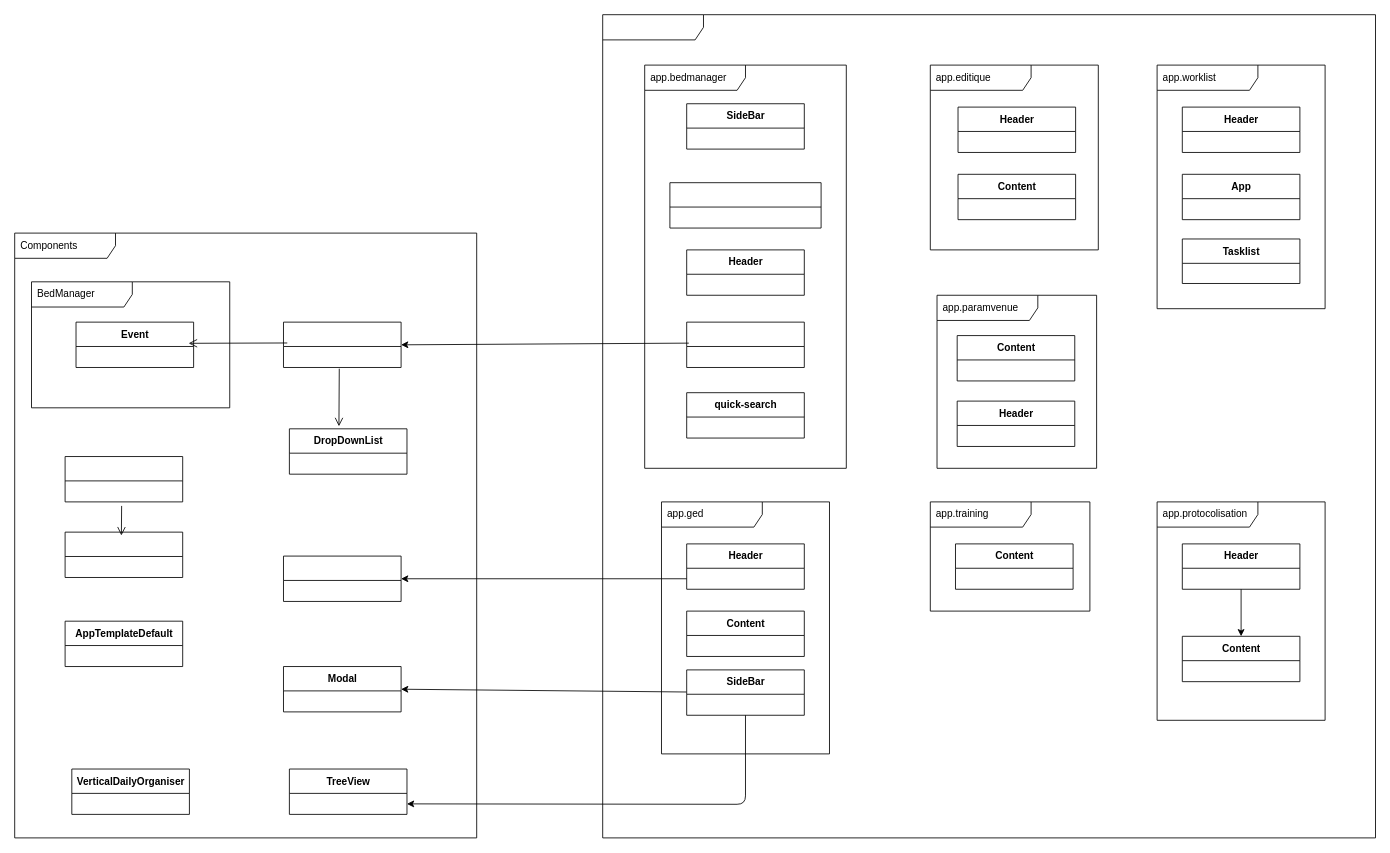
The diagram is 1390 pixels wide and 853 high, and some of its shapes have lost their labels. The shapes that lost their labels are listed below. From the top down, each one's centre as x and y in pixels, then its label:
[745,205]: Content.AvaibilityDeepSearch
[342,344]: Crossplanning
[745,344]: Content.Occupation
[989,426]: Views
[123,479]: Login
[123,554]: Notifications
[342,578]: Menu
